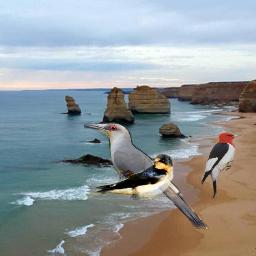Cuckoo: (84, 122, 209, 232)
Swallow: (79, 153, 174, 202)
Woodpecker: (200, 132, 241, 199)
